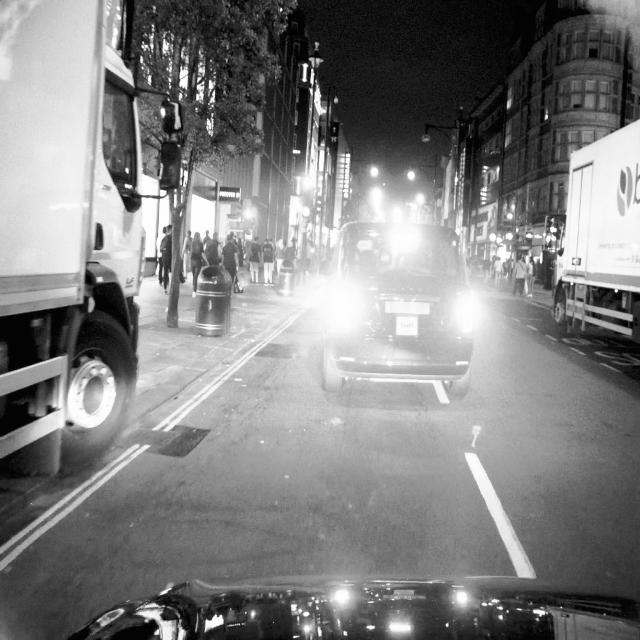Truck: (0, 0, 180, 479), (543, 120, 639, 346)
